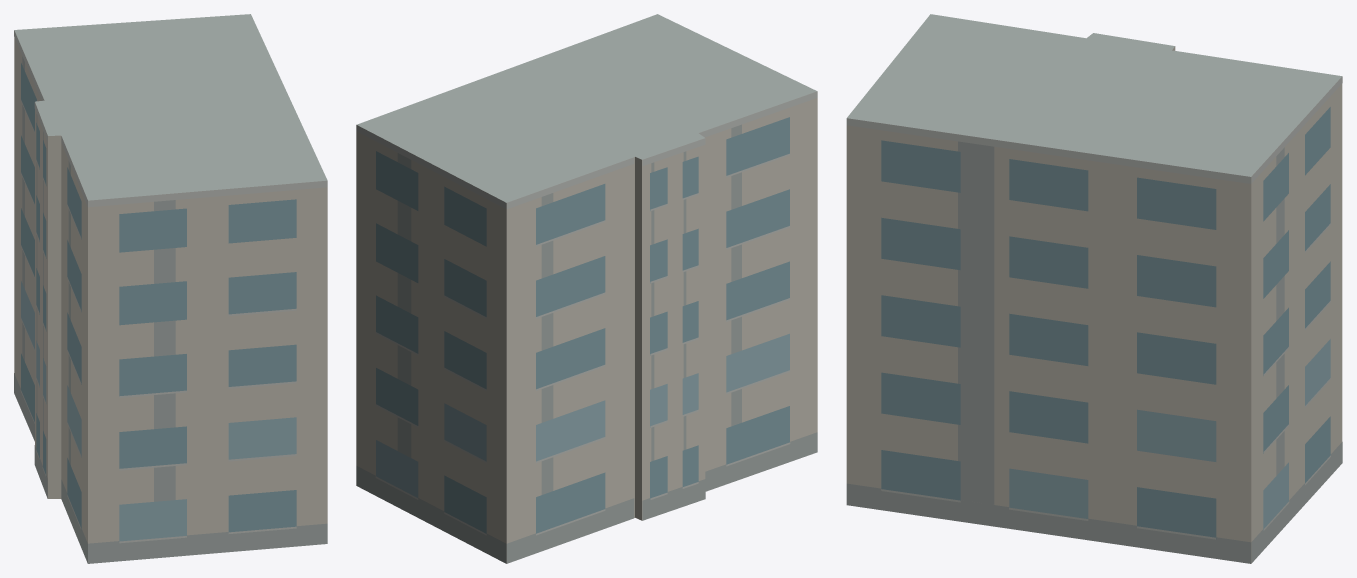
The model's file is survey-upis-32885039.glb.
The picture shows the model from 3 angles, left to right: view 1: azimuth 30°, elevation 25°; view 2: azimuth 150°, elevation 25°; view 3: azimuth 270°, elevation 25°; orthographic projection. The views are drawn at different scales.
Visible parts, largest first — view 1: survey-upis-32885039.tmp; view 2: survey-upis-32885039.tmp; view 3: survey-upis-32885039.tmp.
Part boxes in pixels (box(x1,y1,x2,y2)): survey-upis-32885039.tmp: box(14, 14, 327, 563); survey-upis-32885039.tmp: box(356, 14, 817, 563); survey-upis-32885039.tmp: box(846, 14, 1342, 563).
Bounding box in the file's own units: 12.02 × 13.3 × 15.45.
